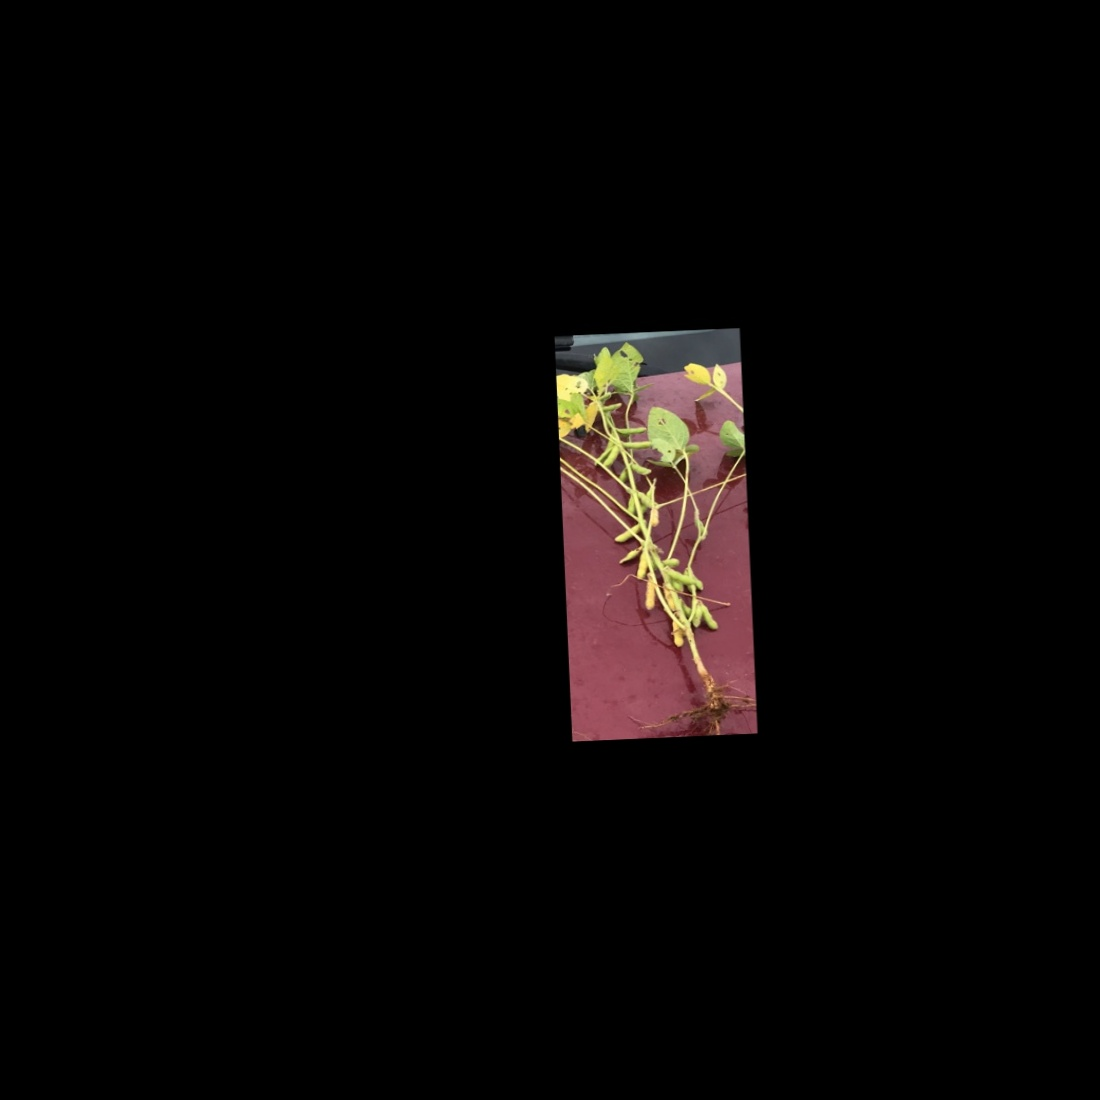pod: (693, 599, 723, 633), (638, 571, 658, 611), (611, 522, 644, 543), (634, 487, 659, 513), (625, 458, 655, 477), (618, 437, 657, 450), (599, 399, 627, 415), (613, 425, 650, 436)
soy: (560, 339, 755, 735)
